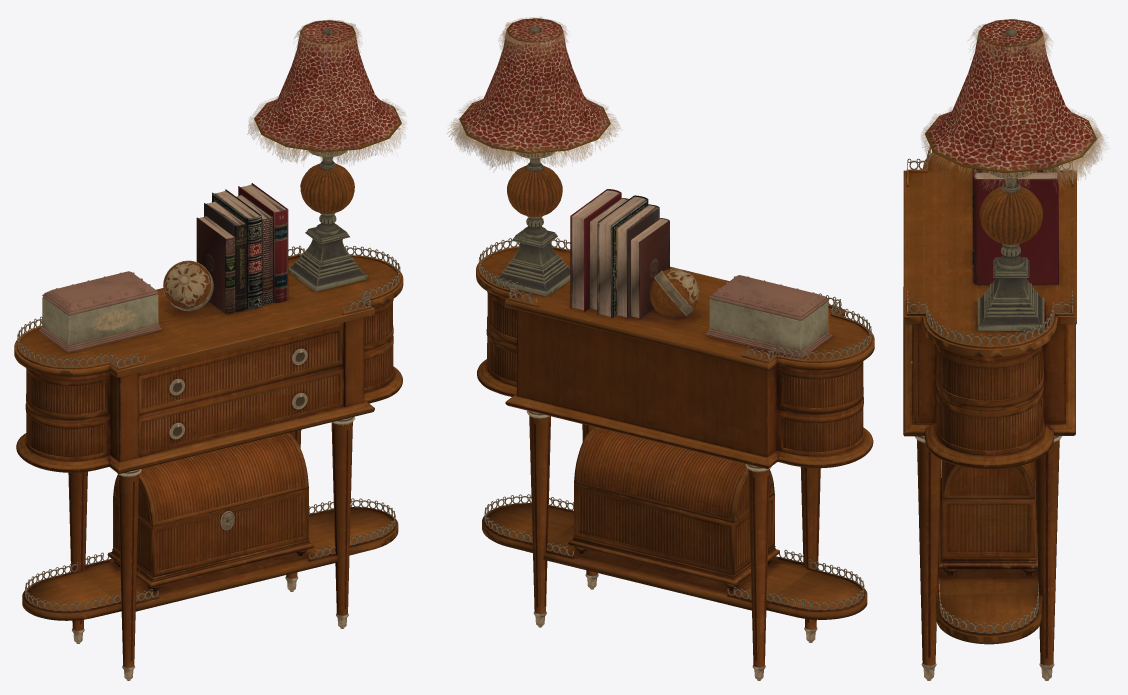
File: bookshelf_west.glb
3 views of the same model, side by side, from view 1: azimuth 30°, elevation 25°; view 2: azimuth 150°, elevation 25°; view 3: azimuth 270°, elevation 25° (orthographic). The views are drawn at different scales.
Visible parts, largest first — view 1: Object_9, Object_21, Object_6; view 2: Object_9, Object_21, Object_6; view 3: Object_9, Object_21, Object_6.
Part boxes in pixels (left/top/right/bottom): Object_9: left=14, top=183, right=403, bottom=667; Object_21: left=17, top=20, right=401, bottom=680; Object_6: left=247, top=19, right=406, bottom=166; Object_9: left=476, top=189, right=874, bottom=667; Object_21: left=459, top=18, right=871, bottom=680; Object_6: left=447, top=17, right=622, bottom=172; Object_9: left=903, top=153, right=1076, bottom=665; Object_21: left=907, top=19, right=1096, bottom=680; Object_6: left=921, top=19, right=1107, bottom=191.
Bounding box in the file's own units: 1268 × 1783 × 509.
Materials: 3 (3 with a texture image).
